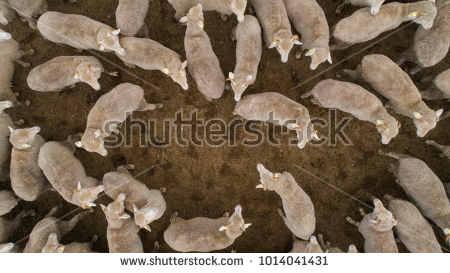sheep: (362, 48, 441, 147), (309, 74, 400, 155), (77, 82, 164, 158), (175, 5, 232, 112), (232, 93, 322, 154), (121, 33, 199, 98), (330, 1, 437, 48), (37, 7, 126, 62), (37, 133, 99, 210), (386, 155, 450, 228), (160, 203, 249, 253), (255, 167, 314, 238), (100, 167, 164, 230), (87, 195, 144, 262), (384, 193, 441, 257), (224, 11, 265, 97), (341, 199, 398, 256), (6, 125, 47, 202), (402, 2, 450, 67), (27, 54, 102, 94), (291, 1, 332, 73), (257, 1, 298, 65), (12, 218, 82, 253)
